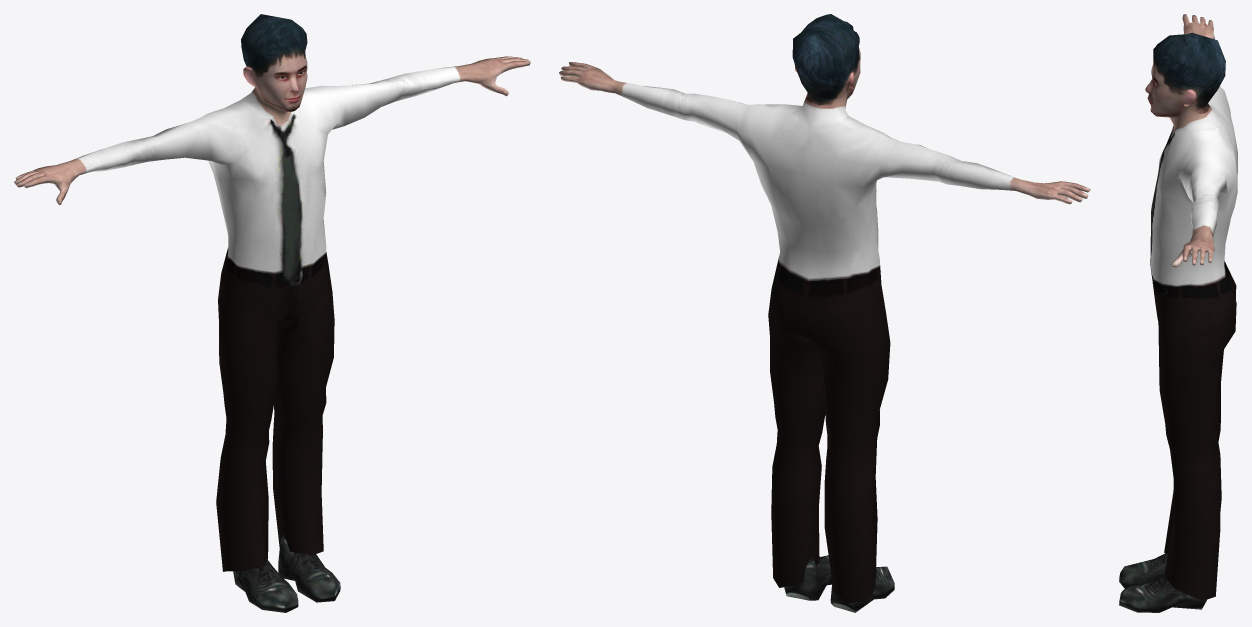
The model's file is NPC_Man_1.fbx.
3 views of the same model, side by side, from view 1: azimuth 30°, elevation 25°; view 2: azimuth 150°, elevation 25°; view 3: azimuth 270°, elevation 25° (orthographic). The views are drawn at different scales.
Visible parts, largest first — view 1: Boy_6; view 2: Boy_6; view 3: Boy_6.
Part boxes in pixels (x1,y1,x2,y2): Boy_6: [14, 14, 530, 612]; Boy_6: [559, 14, 1090, 612]; Boy_6: [1119, 14, 1237, 612].
Bounding box in the file's own units: 441 × 463 × 89.21.
1 material, 1 textured.
